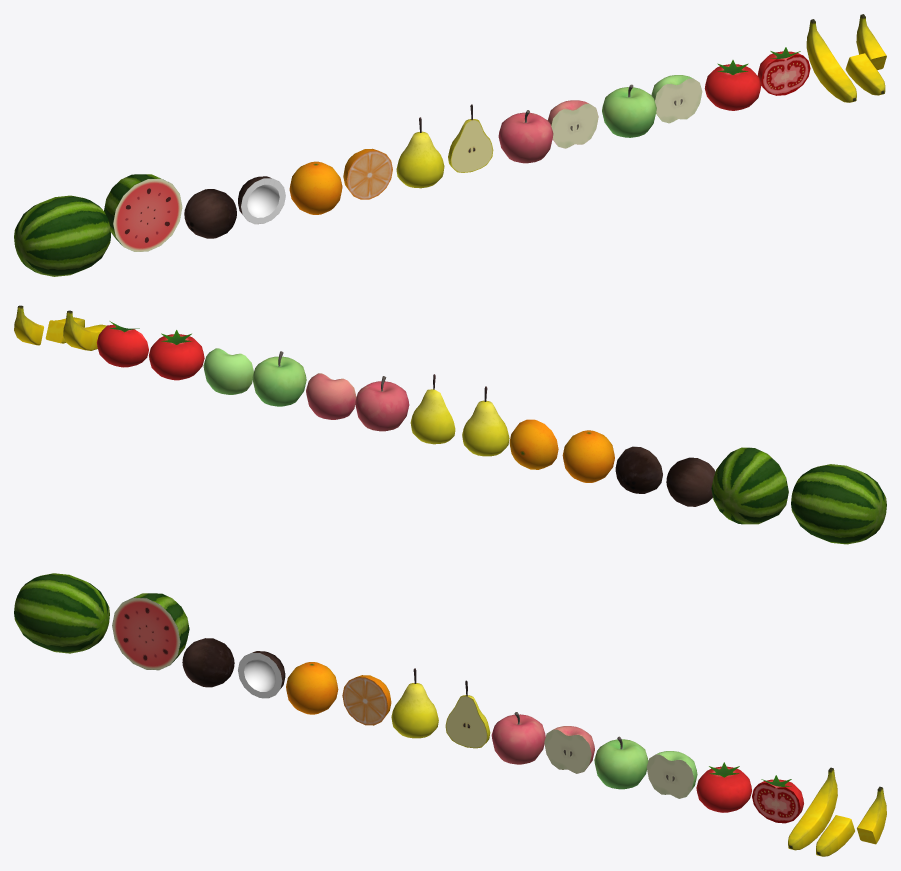
3 views of the same model, one above another, from view 1: azimuth 30°, elevation 25°; view 2: azimuth 150°, elevation 25°; view 3: azimuth 330°, elevation 25° (orthographic).
Parts seen in each view (by area): view 1: Watermelon, WatermelonSlice, RedApple, GreenApple, Orange, Tomato, Coconut, Pear, OrangeSlice, GreenAppleSlice, RedAppleSlice, TomatoSlice (+5 smaller); view 2: Watermelon, WatermelonSlice, RedApple, GreenApple, Orange, Tomato, Pear, OrangeSlice, Coconut, RedAppleSlice, GreenAppleSlice, PearSlice (+4 smaller); view 3: Watermelon, WatermelonSlice, RedApple, GreenApple, Orange, Tomato, Coconut, Pear, OrangeSlice, GreenAppleSlice, RedAppleSlice, TomatoSlice (+5 smaller).
Part boxes in pixels (left/top/right/bottom): Watermelon: left=14, top=195, right=110, bottom=276; WatermelonSlice: left=104, top=174, right=182, bottom=251; RedApple: left=498, top=110, right=553, bottom=163; GreenApple: left=602, top=84, right=656, bottom=137; Orange: left=289, top=161, right=342, bottom=214; Tomato: left=704, top=60, right=761, bottom=110; Coconut: left=184, top=189, right=236, bottom=238; Pear: left=396, top=117, right=444, bottom=188; OrangeSlice: left=343, top=148, right=392, bottom=199; GreenAppleSlice: left=651, top=75, right=702, bottom=123; RedAppleSlice: left=547, top=100, right=598, bottom=148; TomatoSlice: left=757, top=47, right=810, bottom=95; Watermelon: left=791, top=464, right=886, bottom=544; WatermelonSlice: left=711, top=447, right=788, bottom=524; RedApple: left=355, top=376, right=409, bottom=431; GreenApple: left=252, top=351, right=306, bottom=406; Orange: left=562, top=430, right=614, bottom=482; Tomato: left=149, top=330, right=204, bottom=380; Pear: left=462, top=386, right=509, bottom=456; OrangeSlice: left=509, top=419, right=558, bottom=469; Coconut: left=666, top=457, right=715, bottom=506; RedAppleSlice: left=306, top=373, right=356, bottom=419; GreenAppleSlice: left=203, top=348, right=253, bottom=394; PearSlice: left=410, top=374, right=455, bottom=444; Watermelon: left=14, top=573, right=109, bottom=653; WatermelonSlice: left=112, top=593, right=189, bottom=670; RedApple: left=491, top=712, right=545, bottom=764; GreenApple: left=594, top=736, right=648, bottom=789; Orange: left=286, top=662, right=338, bottom=714; Tomato: left=696, top=762, right=751, bottom=812; Coconut: left=182, top=638, right=234, bottom=687; Pear: left=391, top=668, right=438, bottom=738; OrangeSlice: left=342, top=675, right=391, bottom=725; GreenAppleSlice: left=646, top=751, right=697, bottom=798; RedAppleSlice: left=544, top=726, right=594, bottom=773; TomatoSlice: left=752, top=775, right=803, bottom=823.
Size of the model in its own units: 23.4 by 1.92 by 2.45.
15 materials, 15 textured.
